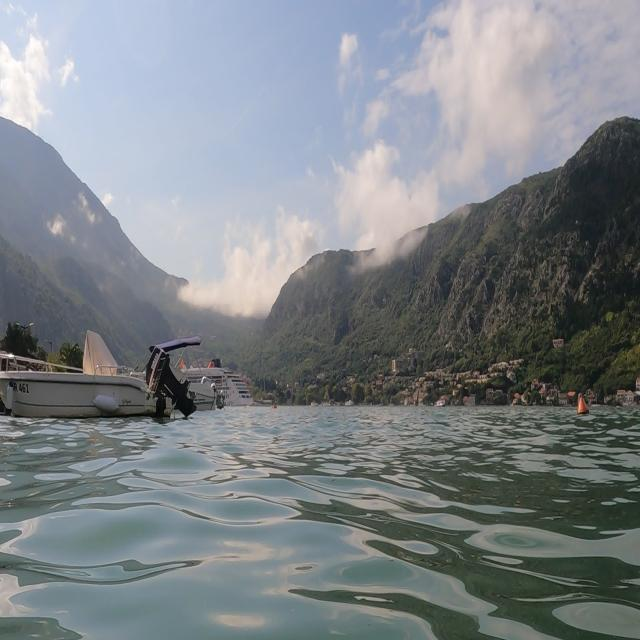boat: (2, 326, 205, 424), (177, 346, 261, 414)
buoy: (572, 391, 594, 422)
